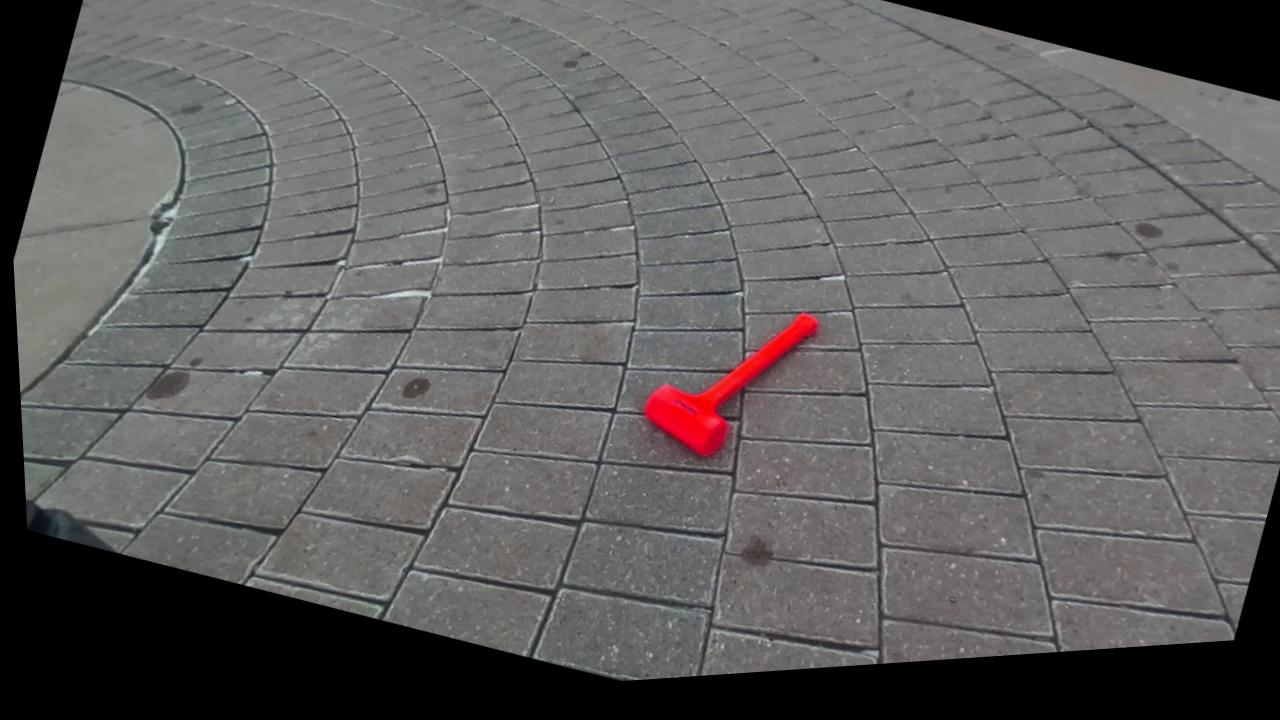mallet: (644, 314, 817, 456)
